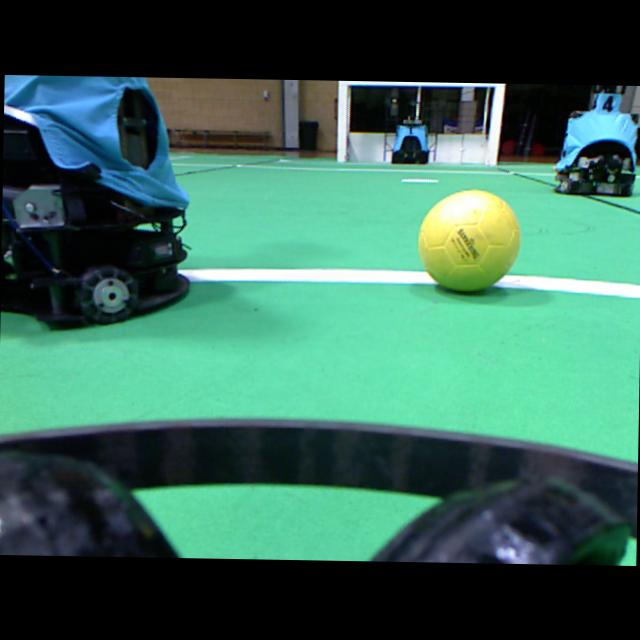ball: (418, 190, 519, 290)
goal: (485, 83, 504, 165), (336, 80, 347, 161)
